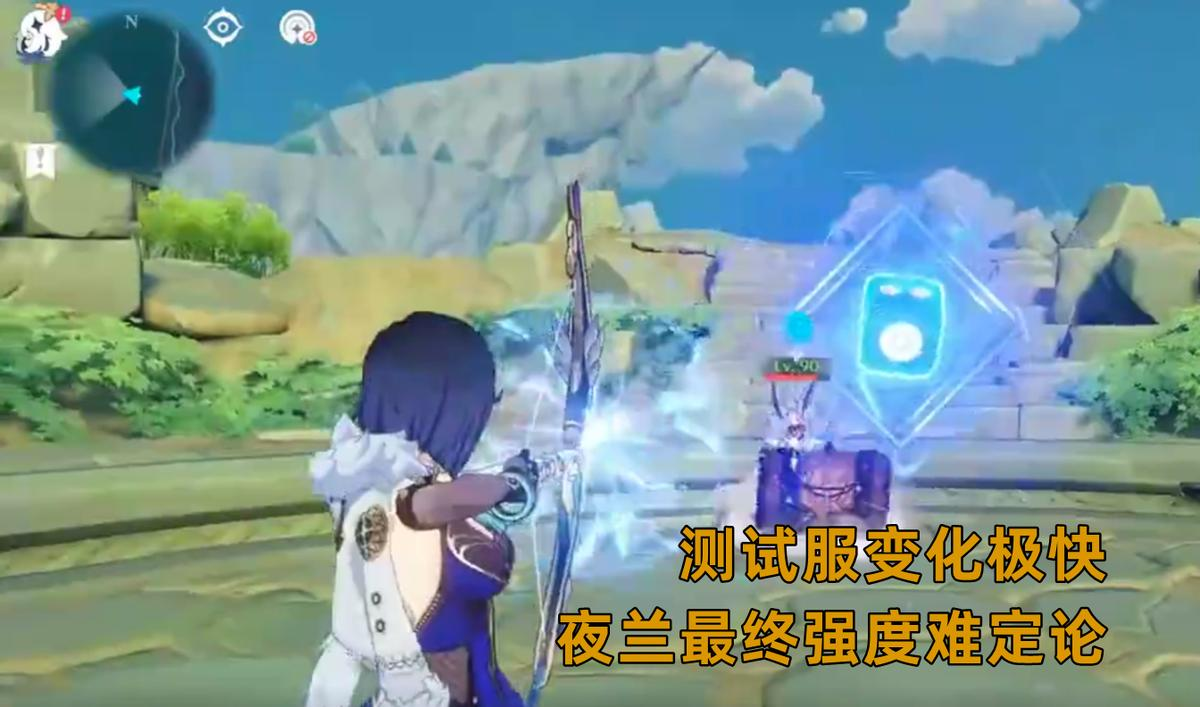夜兰: (310, 315, 530, 707)
